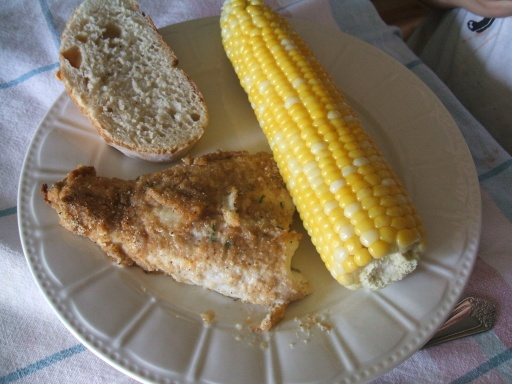background: (34, 0, 342, 200)
